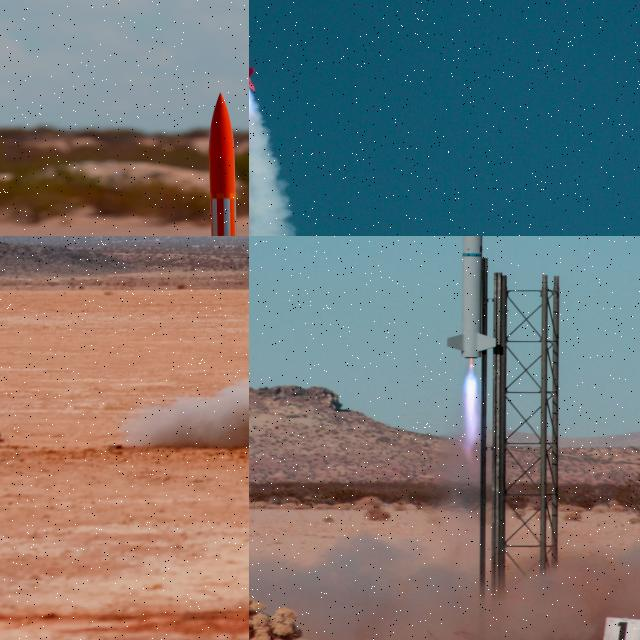Rocket: (198, 89, 249, 236), (444, 236, 498, 360), (249, 0, 257, 91)
